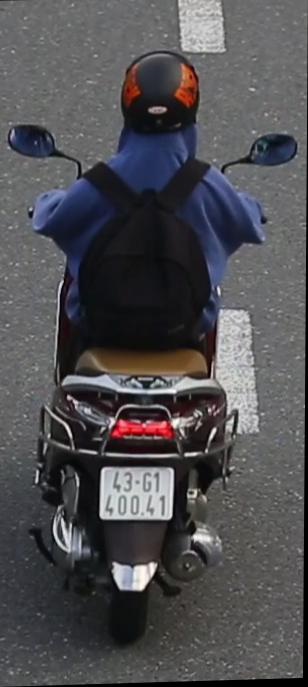LP: (97, 463, 178, 531)
helmet: (114, 45, 206, 169)
